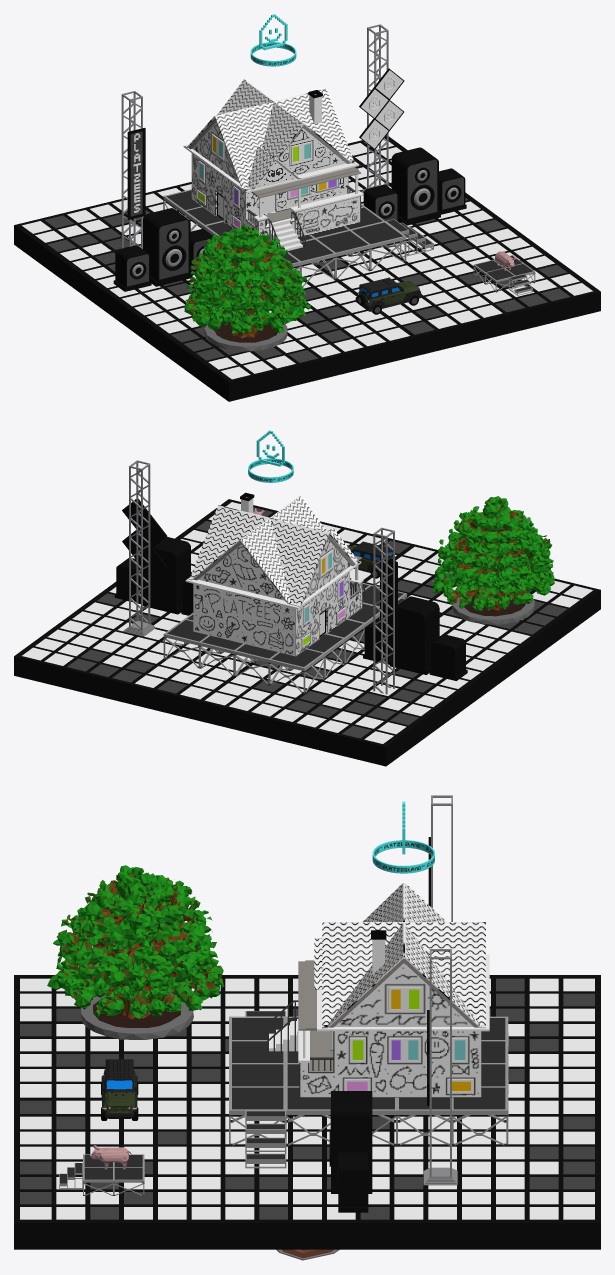
3 views of the same model, one above another, from view 1: azimuth 30°, elevation 25°; view 2: azimuth 150°, elevation 25°; view 3: azimuth 270°, elevation 25° (orthographic). The views are drawn at different scales.
Parts seen in each view (by area): view 1: Cube.008, Cube.879, OBJRANDOM_CEIBA, VEHICLES_JEEP, TYPE_PREMIUM; view 2: Cube.008, Cube.879, OBJRANDOM_CEIBA, TYPE_PREMIUM, VEHICLES_JEEP; view 3: Cube.008, Cube.879, OBJRANDOM_CEIBA, VEHICLES_JEEP, TYPE_PREMIUM.
Part boxes in pixels (<box>): Cube.008: <box>14,24,600,401</box>; Cube.879: <box>183,79,363,252</box>; OBJRANDOM_CEIBA: <box>184,224,310,351</box>; VEHICLES_JEEP: <box>355,277,421,314</box>; TYPE_PREMIUM: <box>250,14,296,66</box>; Cube.008: <box>14,460,600,766</box>; Cube.879: <box>185,492,364,656</box>; OBJRANDOM_CEIBA: <box>431,496,554,624</box>; TYPE_PREMIUM: <box>248,430,293,482</box>; VEHICLES_JEEP: <box>347,541,396,578</box>; Cube.008: <box>14,795,600,1249</box>; Cube.879: <box>266,883,489,1097</box>; OBJRANDOM_CEIBA: <box>47,865,224,1039</box>; VEHICLES_JEEP: <box>101,1059,138,1120</box>; TYPE_PREMIUM: <box>372,801,434,873</box>.
Bounding box in the file's own units: 4000 × 3228 × 4000.
48 materials, 9 textured.
